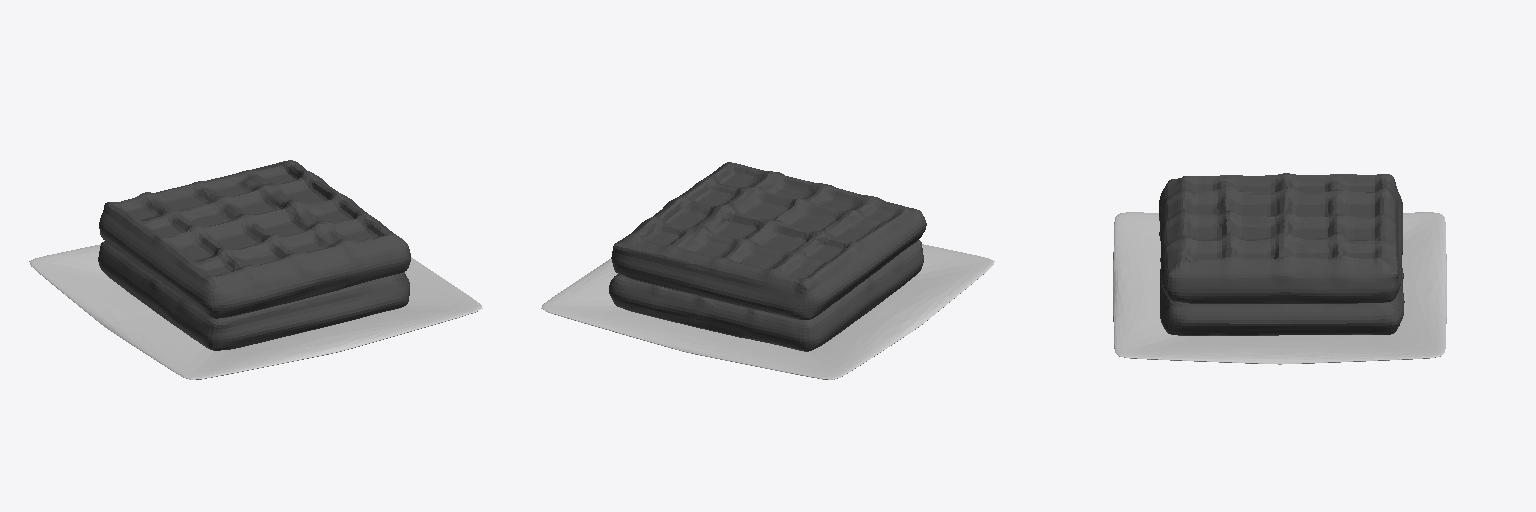
File: waffle2.obj
3 renders of one model, left to right at view 1: azimuth 30°, elevation 25°; view 2: azimuth 150°, elevation 25°; view 3: azimuth 270°, elevation 25°, orthographic.
Visible parts, largest first — view 1: Waffle00, plate, Waffle01; view 2: Waffle00, plate, Waffle01; view 3: Waffle00, plate, Waffle01.
Part boxes in pixels (x1,y1,x2,y2): Waffle00: (99,160,410,318); plate: (29,244,482,379); Waffle01: (98,241,409,350); Waffle00: (611,162,926,319); plate: (541,244,994,379); Waffle01: (609,240,923,351); Waffle00: (1159,173,1402,303); plate: (1113,212,1446,364); Waffle01: (1160,268,1404,335).
Bounding box in the file's own units: 61.93 × 16.76 × 59.42.